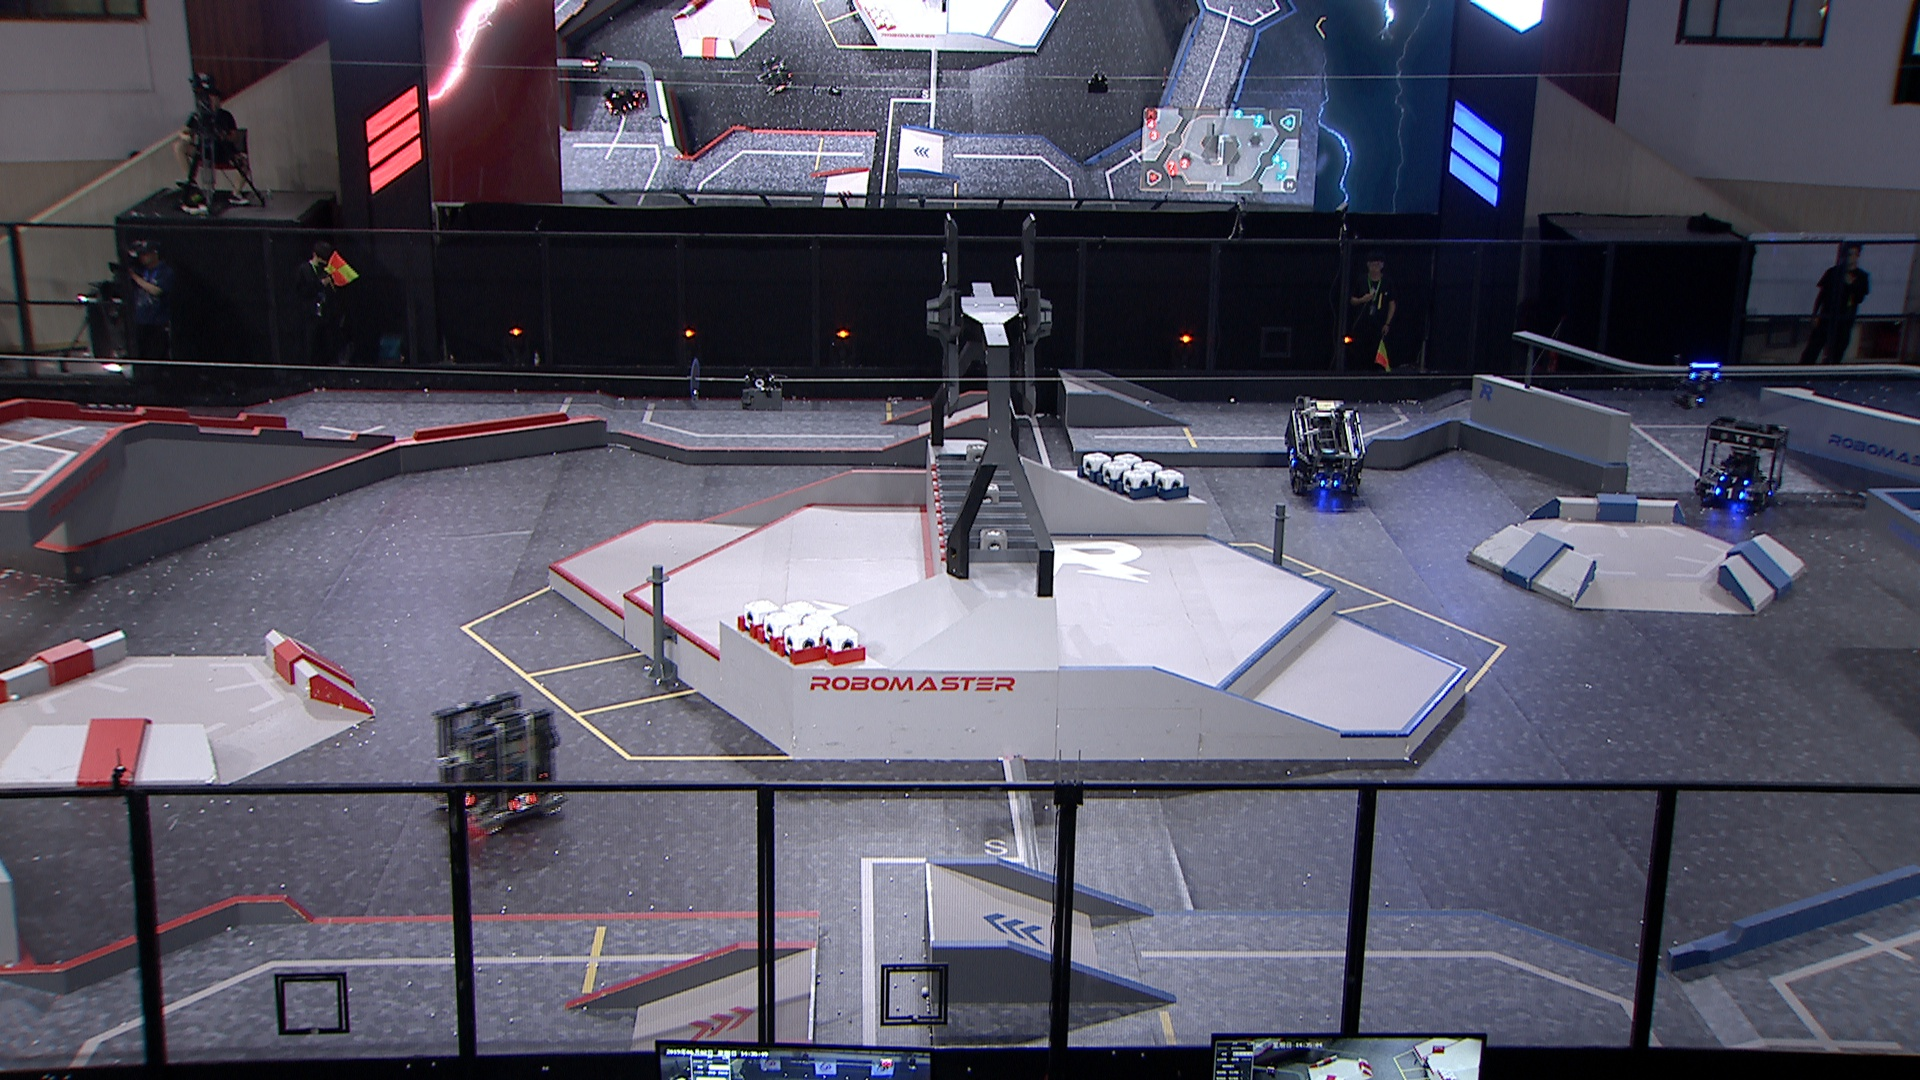armor: (508, 793, 534, 815), (451, 789, 479, 808), (1714, 487, 1745, 501), (1720, 473, 1749, 485), (1693, 371, 1718, 382), (1317, 476, 1338, 489), (1766, 480, 1778, 498), (1284, 450, 1294, 467)
car: (425, 688, 572, 841), (1280, 392, 1371, 505), (1691, 415, 1793, 516)
ignore: (599, 87, 647, 116), (757, 59, 796, 92), (582, 50, 615, 86)
watcher: (1673, 348, 1722, 405)
